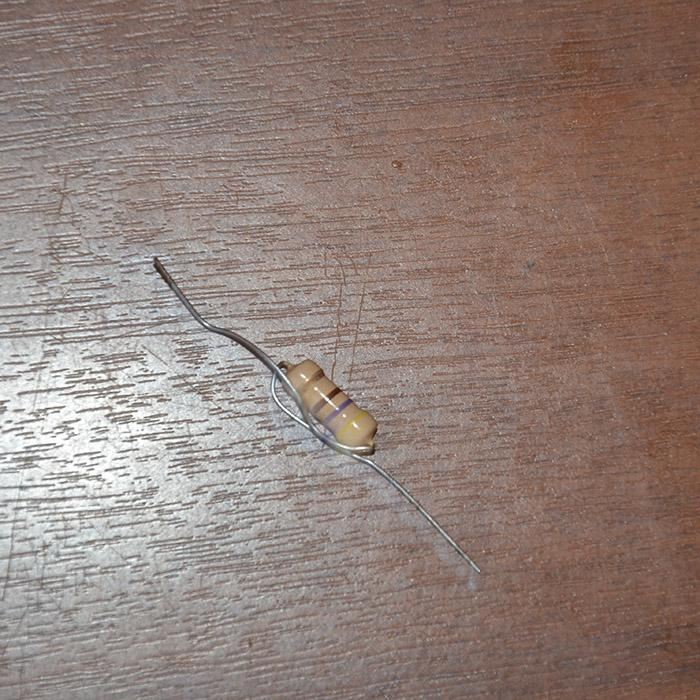resistor: (279, 356, 377, 449)
